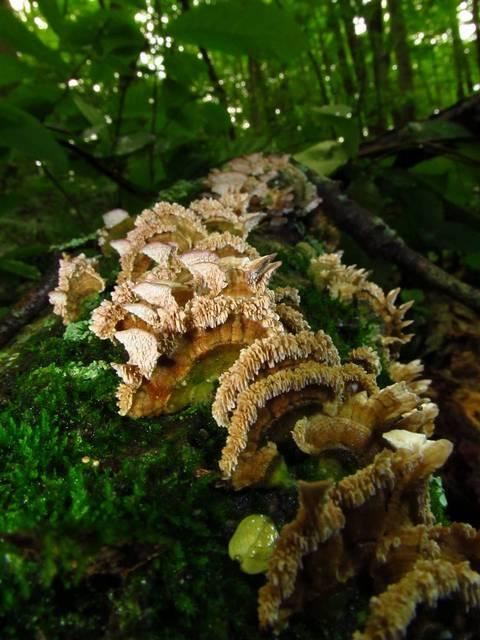Non-edible Mushroom: (50, 127, 475, 640)
